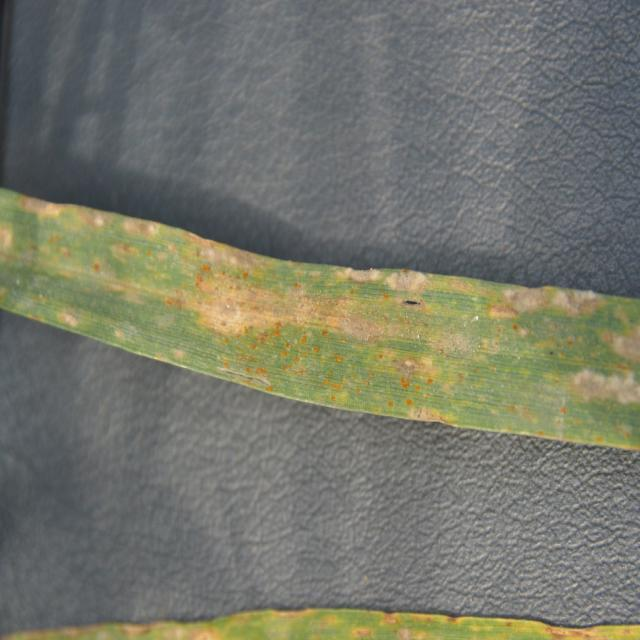Septoria: (0, 188, 639, 449), (1, 608, 639, 639)
